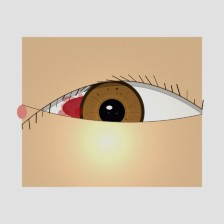hemorrhage_spot: (49, 68, 149, 148)
